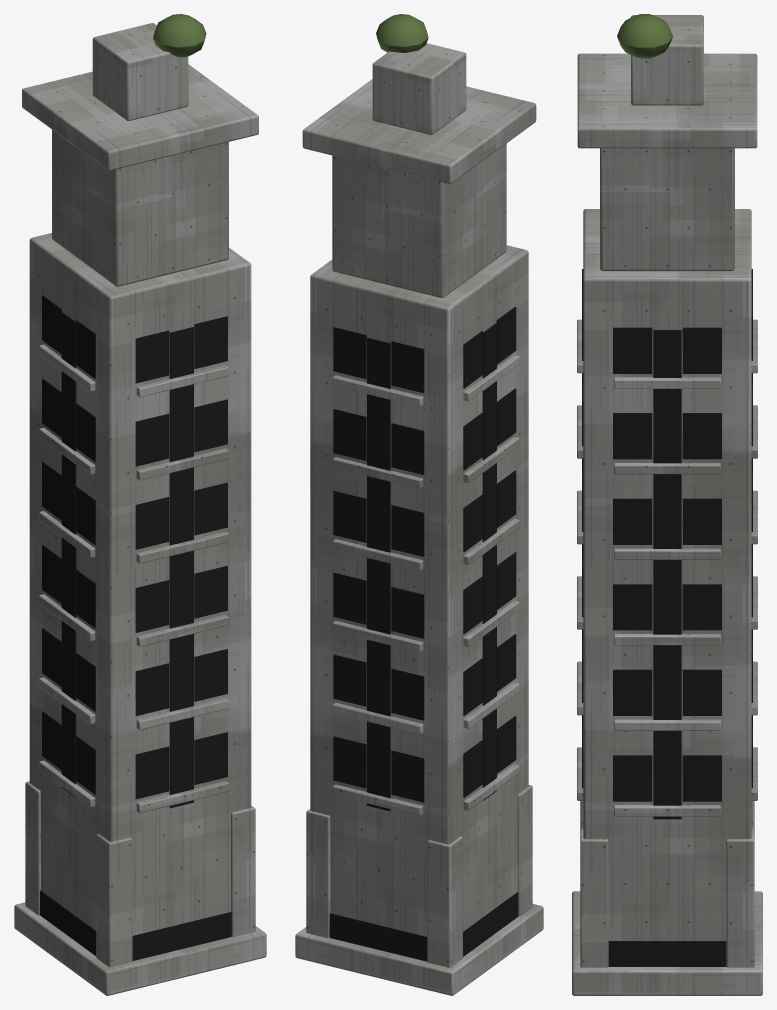
File: tower_nw.glb
The picture shows the model from 3 angles, left to right: view 1: azimuth 30°, elevation 25°; view 2: azimuth 150°, elevation 25°; view 3: azimuth 270°, elevation 25°; orthographic projection. The views are drawn at different scales.
Parts seen in each view (by area): view 1: TowerConcrete, TowerDark, bush; view 2: TowerConcrete, TowerDark, bush; view 3: TowerConcrete, TowerDark, bush.
Boxes of the visible parts, x1=… form: TowerConcrete: x1=14, y1=23, x2=266, y2=995; TowerDark: x1=40, y1=295, x2=231, y2=960; bush: x1=153, y1=14, x2=206, y2=57; TowerConcrete: x1=295, y1=43, x2=543, y2=995; TowerDark: x1=329, y1=306, x2=518, y2=961; bush: x1=376, y1=14, x2=428, y2=52; TowerConcrete: x1=572, y1=15, x2=762, y2=995; TowerDark: x1=582, y1=269, x2=752, y2=966; bush: x1=617, y1=14, x2=672, y2=58.
Bounding box in the file's own units: 3.4 × 18.73 × 3.4.
Materials: 3 (1 with a texture image).
